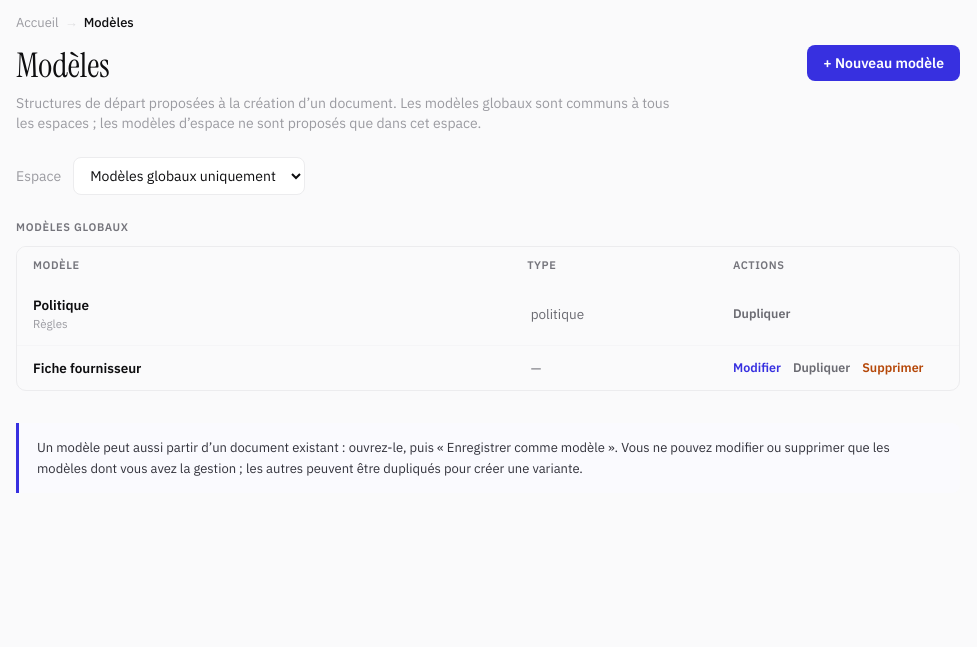
Test: TemplatesAdminPage › le sélecteur d’espace affiche aussi les modèles de l’espace
Expected: the element "Modèles globaux" is shown, x1=16 y1=219 x2=960 y2=391
Select "Identité & accès" in the dropdown labelled "Espace" at (189, 176), box x1=73 y1=157 x2=305 y2=195
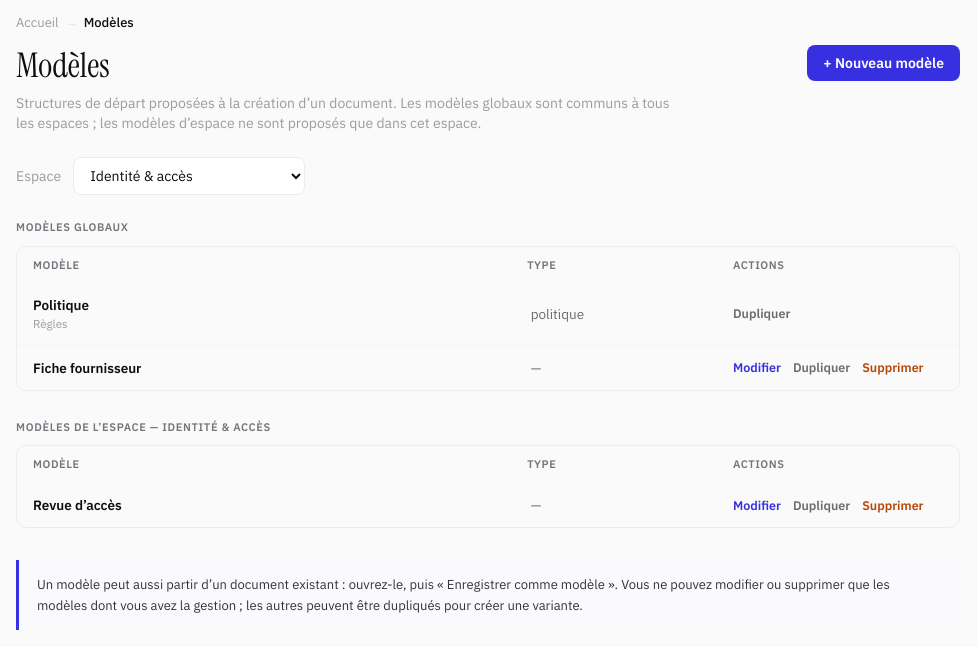
Expected: the text "Revue d’accès" is shown, x1=33 y1=496 x2=122 y2=514
